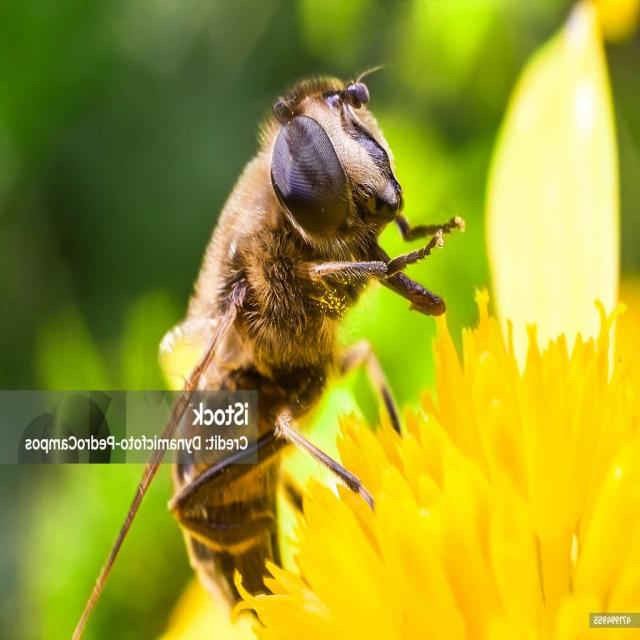bees: (60, 57, 467, 640)
